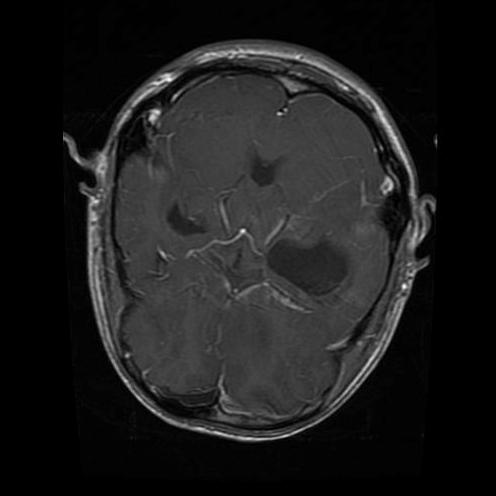Tumour-Glioma: (262, 232, 356, 301)
